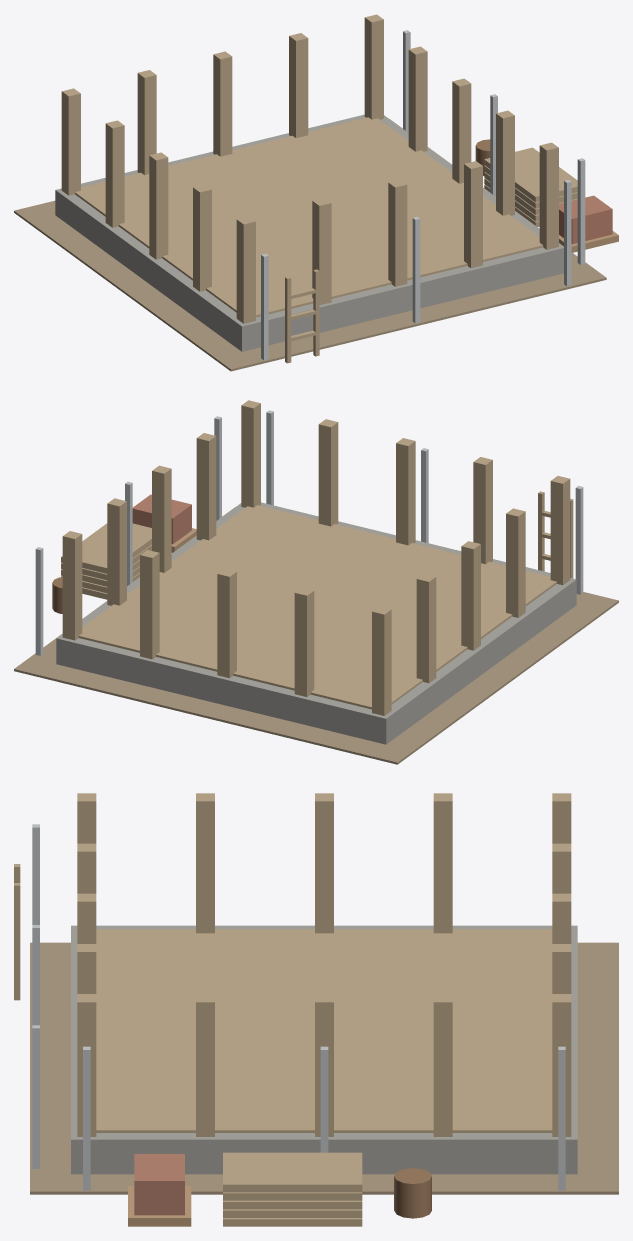
Rendered from bloom_garden_site_3.glb.
3 renders of one model, top to bottom at view 1: azimuth 30°, elevation 25°; view 2: azimuth 150°, elevation 25°; view 3: azimuth 270°, elevation 25°, orthographic. The views are drawn at different scales.
Visible parts, largest first — view 1: body; view 2: body; view 3: body.
Part boxes in pixels (box(x1,y1,x2,y2)): body: box(14, 14, 618, 371); body: box(14, 400, 618, 764); body: box(14, 793, 618, 1226).
Bounding box in the file's own units: 2.1 × 0.6 × 1.91.
